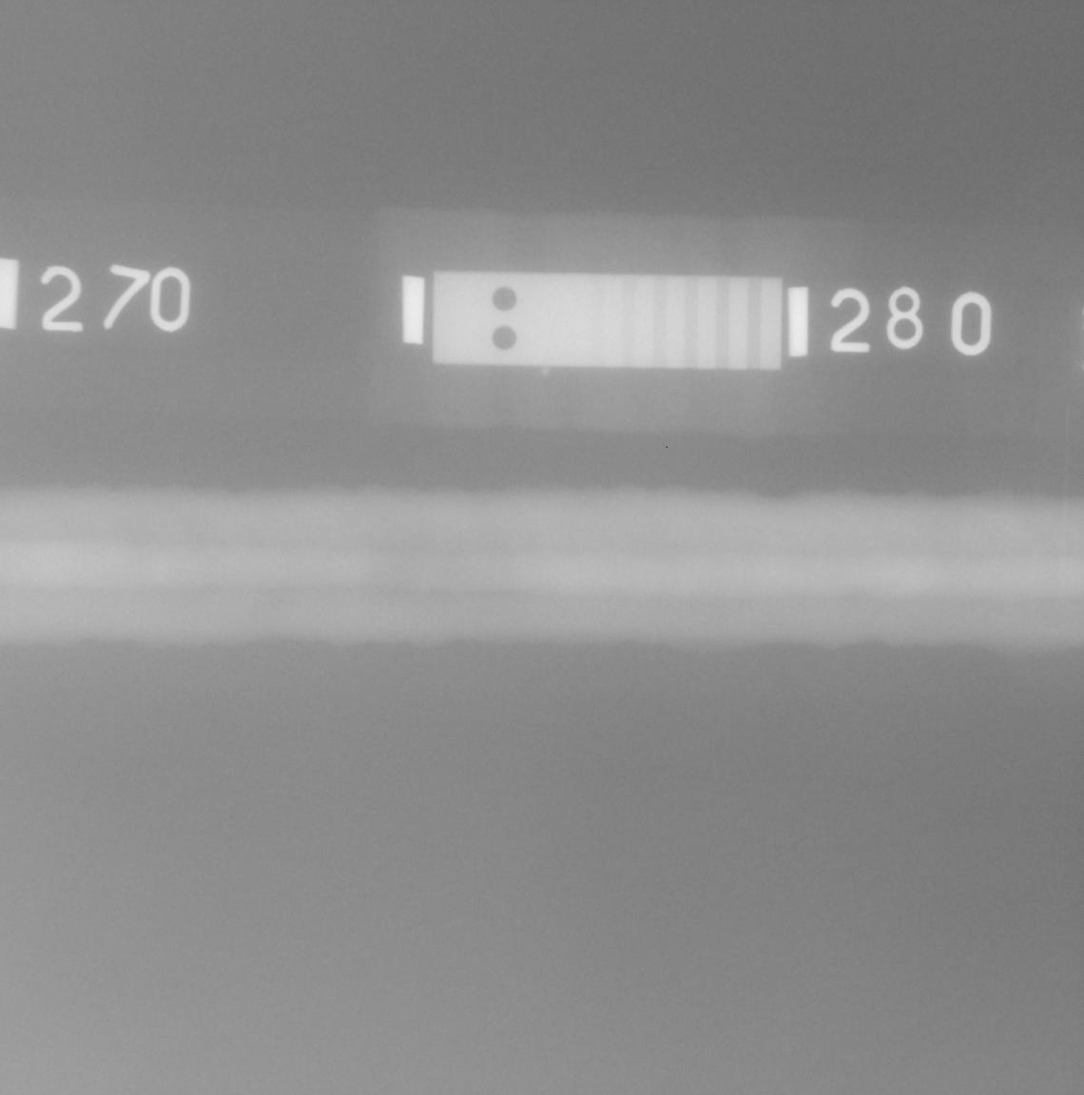Reference Standard 2: (432, 271, 783, 370)
